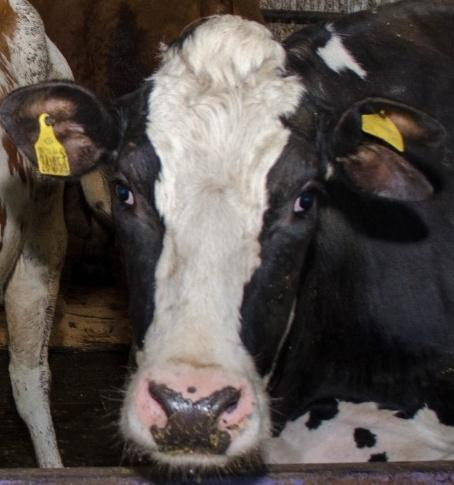muzzles: (115, 364, 269, 470)
